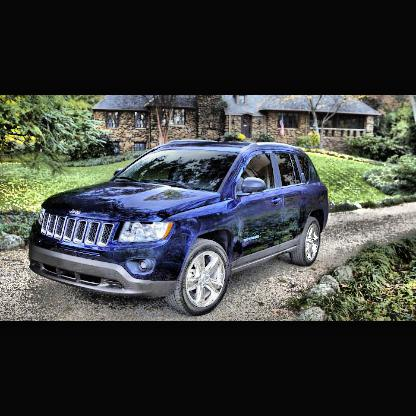Jeep Compass SUV 2012: (29, 141, 331, 318)
